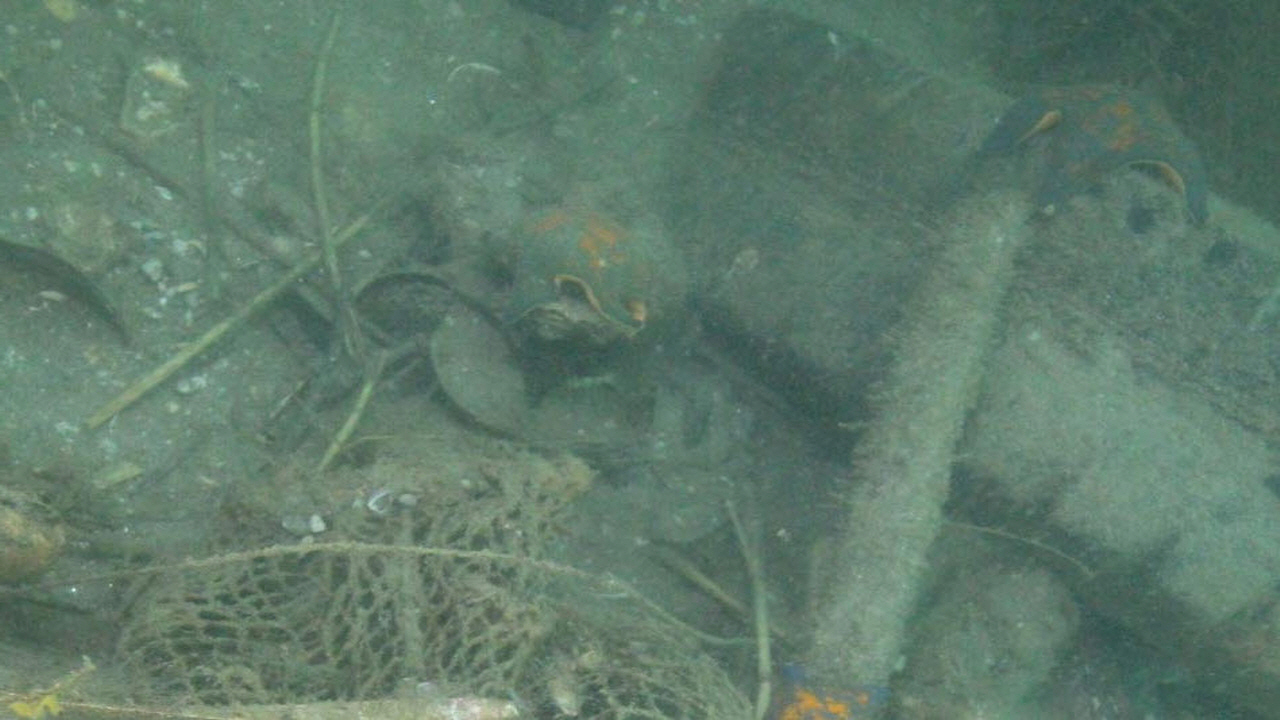fish net: (112, 483, 756, 720)
